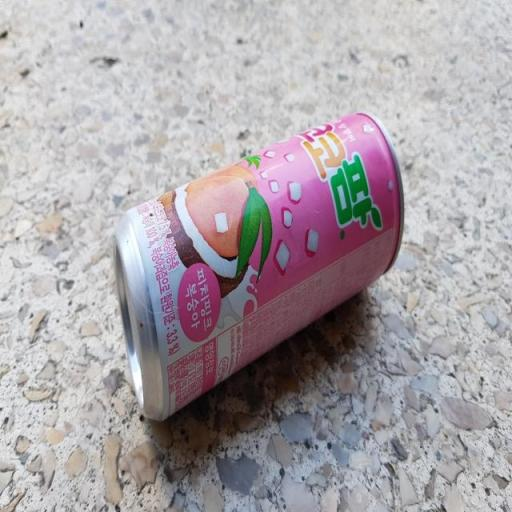metal: (86, 71, 429, 465)
